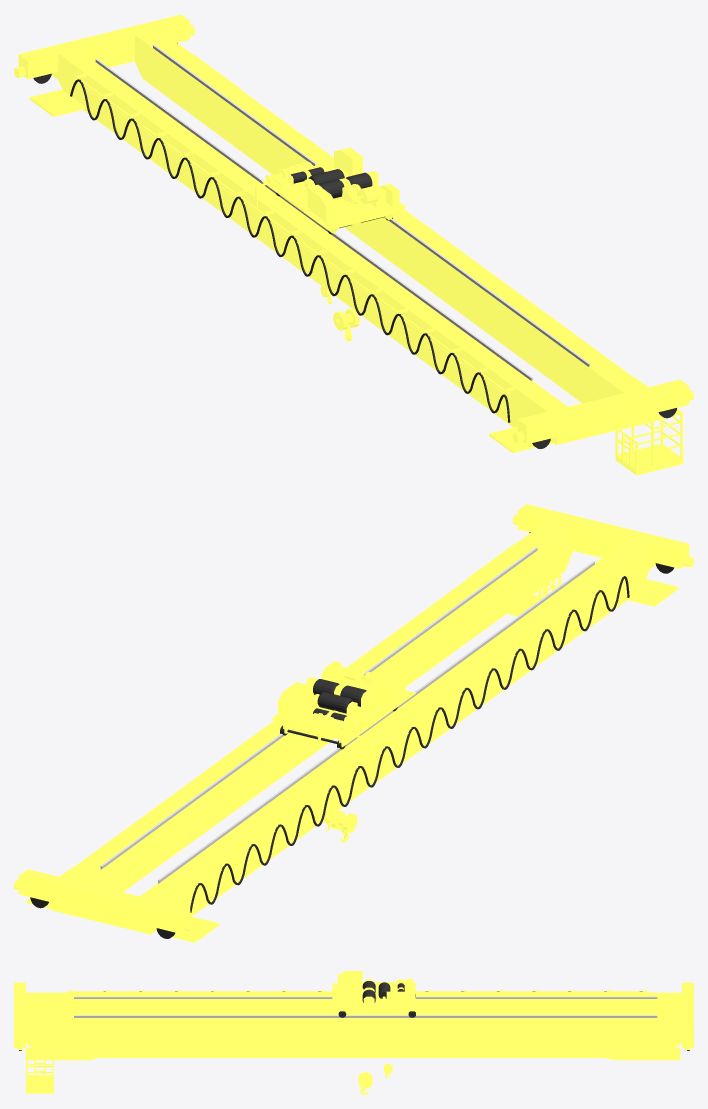
The picture shows the model from 3 angles, top to bottom: view 1: azimuth 30°, elevation 25°; view 2: azimuth 150°, elevation 25°; view 3: azimuth 270°, elevation 25°; orthographic projection. The views are drawn at different scales.
Visible parts, largest first — view 1: 1_Bay_C_1806_Body, 1_Bay_C_1806_Body_Head; view 2: 1_Bay_C_1806_Body, 1_Bay_C_1806_Body_Head; view 3: 1_Bay_C_1806_Body, 1_Bay_C_1806_Body_Head, 1_Bay_C_1806_Head_Hook_01.
Boxes of the visible parts, x1,y1,x2,y2 form: 1_Bay_C_1806_Body: [14, 14, 693, 475]; 1_Bay_C_1806_Body_Head: [255, 147, 405, 234]; 1_Bay_C_1806_Body: [14, 504, 693, 942]; 1_Bay_C_1806_Body_Head: [272, 661, 415, 759]; 1_Bay_C_1806_Body: [14, 982, 693, 1093]; 1_Bay_C_1806_Body_Head: [332, 971, 415, 1017]; 1_Bay_C_1806_Head_Hook_01: [358, 1072, 372, 1094].
Bounding box in the file's own units: 7.84 × 6.99 × 39.13.
